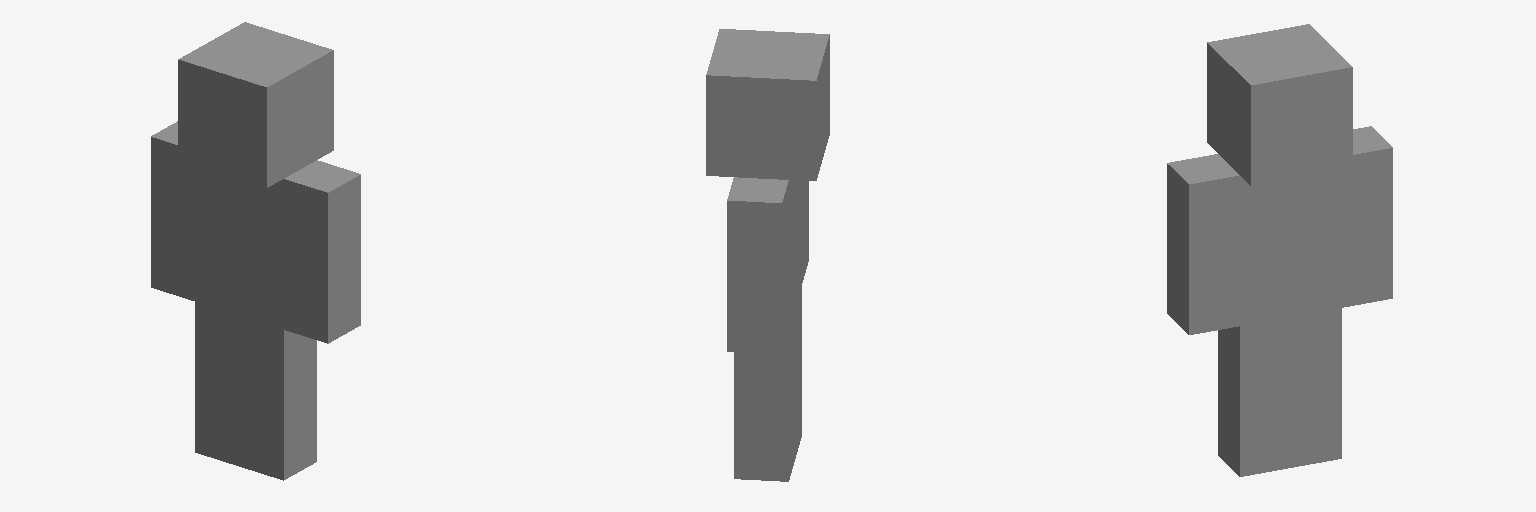
Rendered from women.obj.
3 renders of one model, left to right at view 1: azimuth 30°, elevation 25°; view 2: azimuth 150°, elevation 25°; view 3: azimuth 270°, elevation 25°, orthographic.
Parts seen in each view (by area): view 1: Head1.001_Untitled.008, ArmLeft1.001_Untitled.011, Body1.001_Untitled.009, LegLeft1.001_Untitled.007, ArmRight1.001_Untitled.010, LegRight1.001_Untitled.006; view 2: Head1.001_Untitled.008, ArmRight1.001_Untitled.010, LegRight1.001_Untitled.006, Body1.001_Untitled.009, LegLeft1.001_Untitled.007, ArmLeft1.001_Untitled.011; view 3: Head1.001_Untitled.008, Body1.001_Untitled.009, ArmLeft1.001_Untitled.011, LegLeft1.001_Untitled.007, ArmRight1.001_Untitled.010, LegRight1.001_Untitled.006.
Part boxes in pixels (x1,y1,x2,y2): Head1.001_Untitled.008: (178, 22, 333, 187); ArmLeft1.001_Untitled.011: (284, 160, 360, 343); Body1.001_Untitled.009: (195, 166, 283, 329); LegLeft1.001_Untitled.007: (239, 316, 316, 480); ArmRight1.001_Untitled.010: (151, 121, 194, 300); LegRight1.001_Untitled.006: (195, 302, 238, 465); Head1.001_Untitled.008: (706, 29, 829, 180); ArmRight1.001_Untitled.010: (727, 177, 788, 353); LegRight1.001_Untitled.006: (734, 308, 795, 481); Body1.001_Untitled.009: (777, 179, 801, 328); LegLeft1.001_Untitled.007: (796, 287, 801, 454); ArmLeft1.001_Untitled.011: (802, 181, 808, 282); Head1.001_Untitled.008: (1207, 24, 1352, 185); Body1.001_Untitled.009: (1240, 170, 1341, 325); ArmLeft1.001_Untitled.011: (1167, 154, 1239, 334); LegLeft1.001_Untitled.007: (1218, 317, 1290, 476); ArmRight1.001_Untitled.010: (1342, 126, 1392, 307); LegRight1.001_Untitled.006: (1291, 308, 1341, 467).
Bounding box in the file's own units: 0.9788 × 2.98 × 1.52.